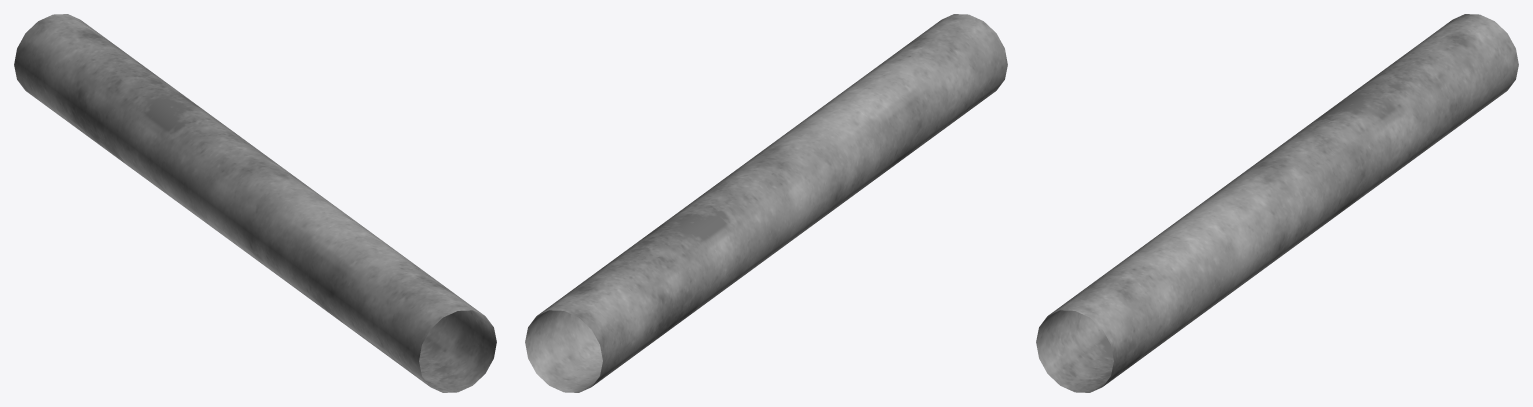
3 views of the same model, side by side, from view 1: azimuth 30°, elevation 25°; view 2: azimuth 150°, elevation 25°; view 3: azimuth 330°, elevation 25° (orthographic).
Visible parts, largest first — view 1: Pipe_long; view 2: Pipe_long; view 3: Pipe_long.
Part boxes in pixels (bbox=[...]): Pipe_long: bbox=[14, 14, 496, 392]; Pipe_long: bbox=[525, 14, 1007, 392]; Pipe_long: bbox=[1036, 14, 1518, 392].
Bounding box in the file's own units: 200 × 200 × 1800.
1 material, 1 textured.
